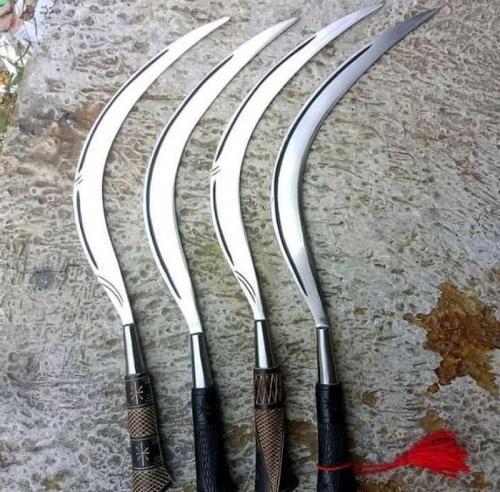foice: (269, 0, 444, 488), (214, 0, 385, 489), (69, 0, 231, 491), (143, 0, 299, 485)
